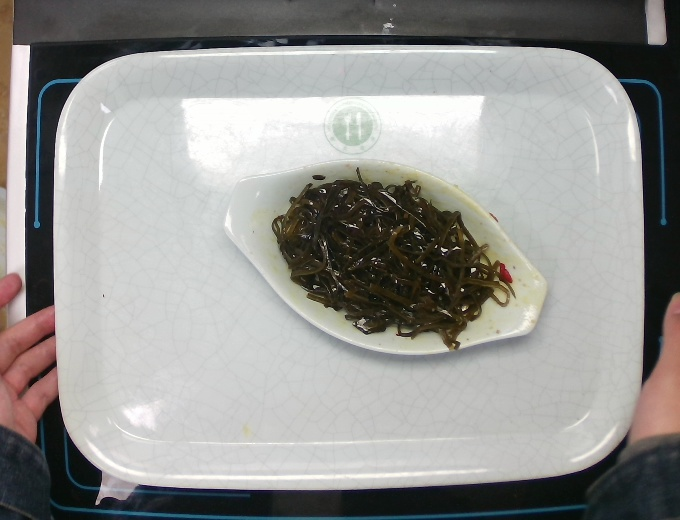JYsf-Yu_Pan: (217, 152, 555, 358)
